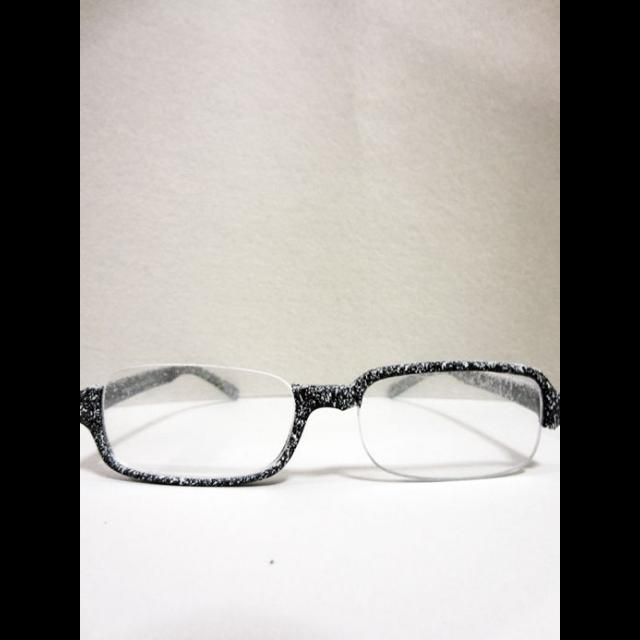glasses: (80, 359, 560, 486)
